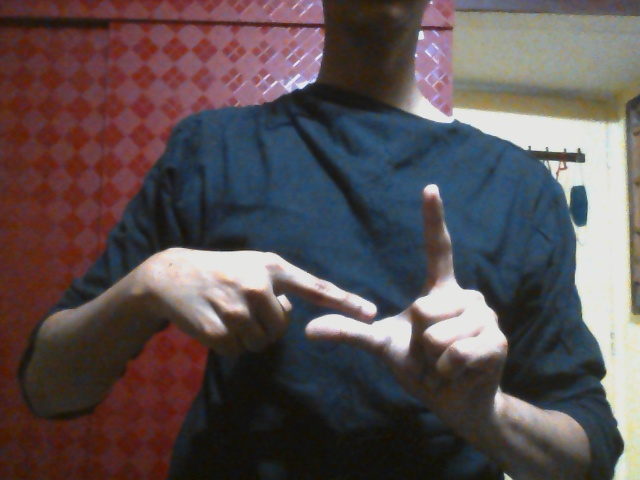J: (161, 183, 508, 406)
